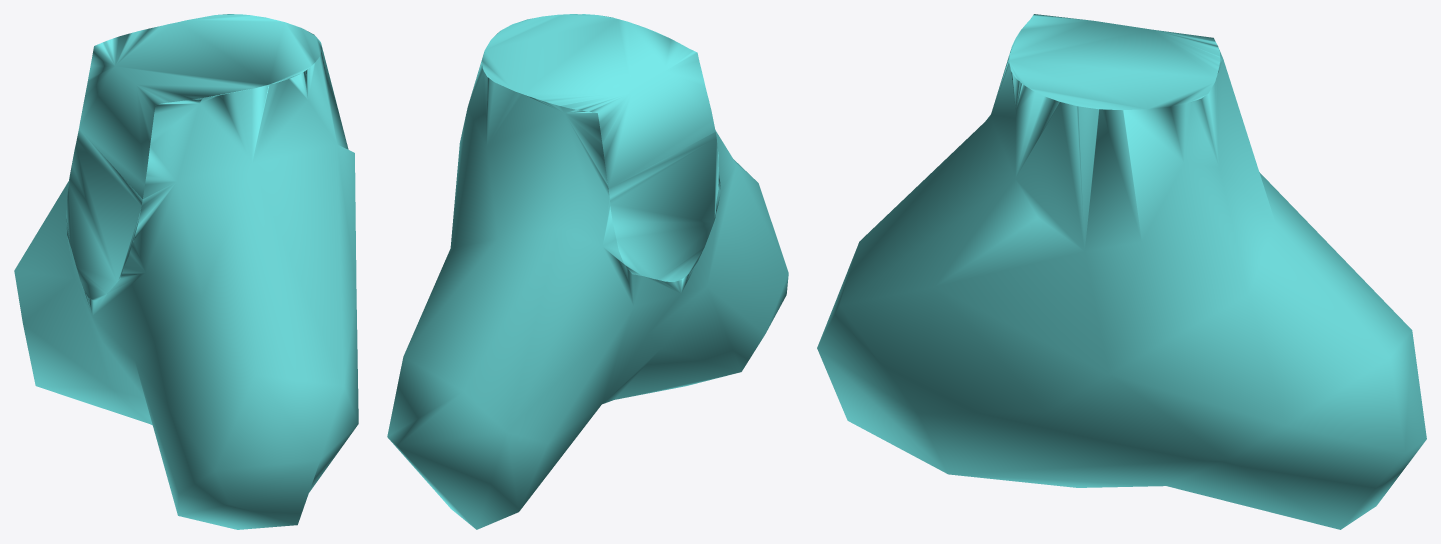
The model's file is RespiratoryBud_Puzzle.fbx.
3 views of the same model, side by side, from view 1: azimuth 30°, elevation 25°; view 2: azimuth 150°, elevation 25°; view 3: azimuth 270°, elevation 25° (orthographic). The views are drawn at different scales.
Parts seen in each view (by area): view 1: Respiratory_bud; view 2: Respiratory_bud; view 3: Respiratory_bud.
Boxes of the visible parts, box(x1,y1,x2,y2) form: Respiratory_bud: box(14, 14, 358, 529); Respiratory_bud: box(387, 14, 788, 529); Respiratory_bud: box(817, 14, 1426, 529).
Size of the model in its own units: 1.71 by 2.91 by 3.53.
